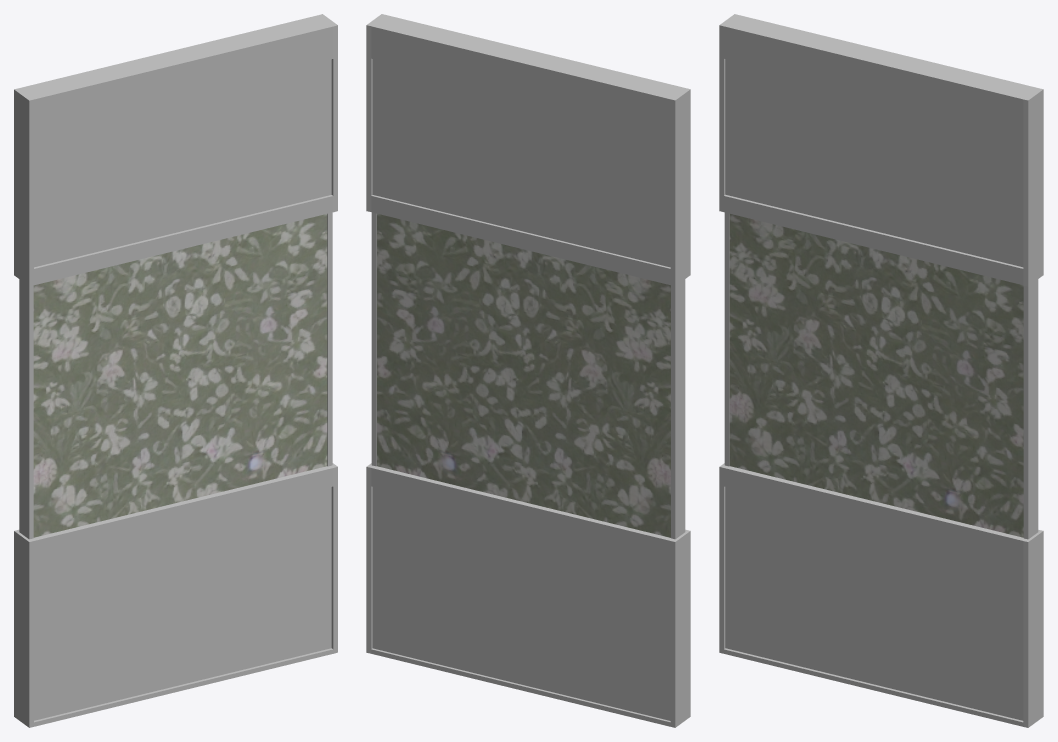
The model's file is tableparti04aa.fbx.
The picture shows the model from 3 angles, left to right: view 1: azimuth 30°, elevation 25°; view 2: azimuth 150°, elevation 25°; view 3: azimuth 330°, elevation 25°; orthographic projection.
Parts seen in each view (by area): view 1: tableparti04aa; view 2: tableparti04aa; view 3: tableparti04aa.
Part boxes in pixels (left/top/right/bottom): tableparti04aa: left=14, top=14, right=337, bottom=727; tableparti04aa: left=366, top=14, right=690, bottom=727; tableparti04aa: left=719, top=14, right=1043, bottom=727.
Bounding box in the file's own units: 1.73 × 3.36 × 0.1511.
